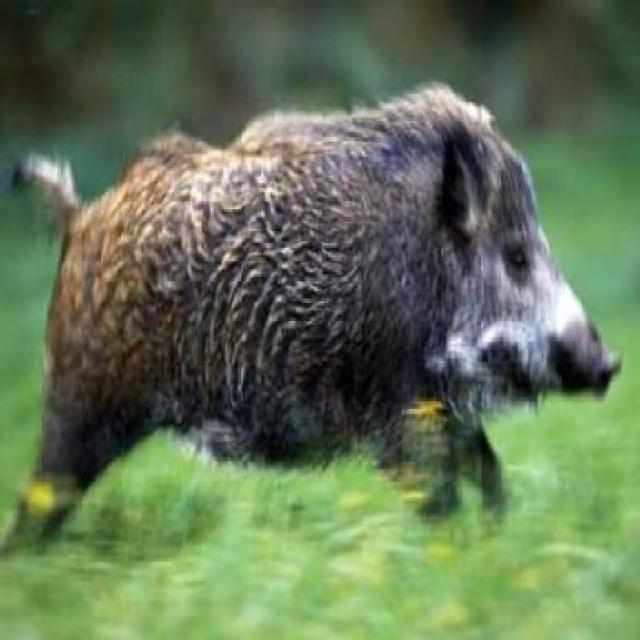wildboar: (0, 77, 623, 555)
